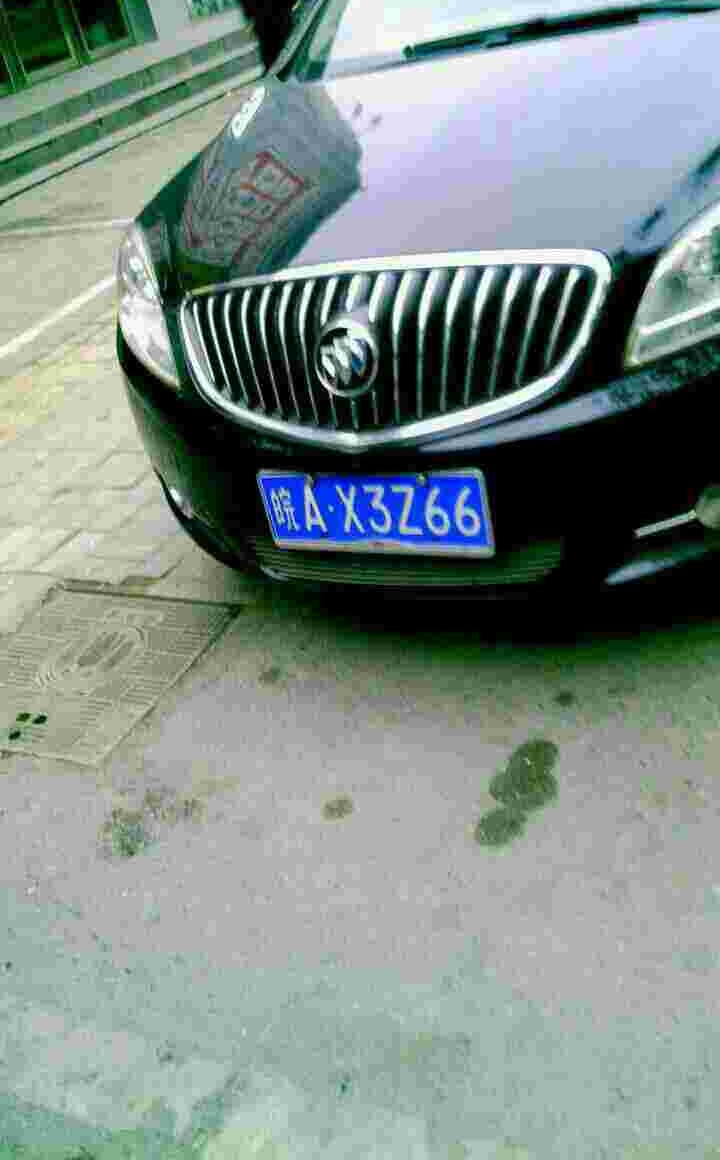license_plate: (272, 468, 494, 552)
